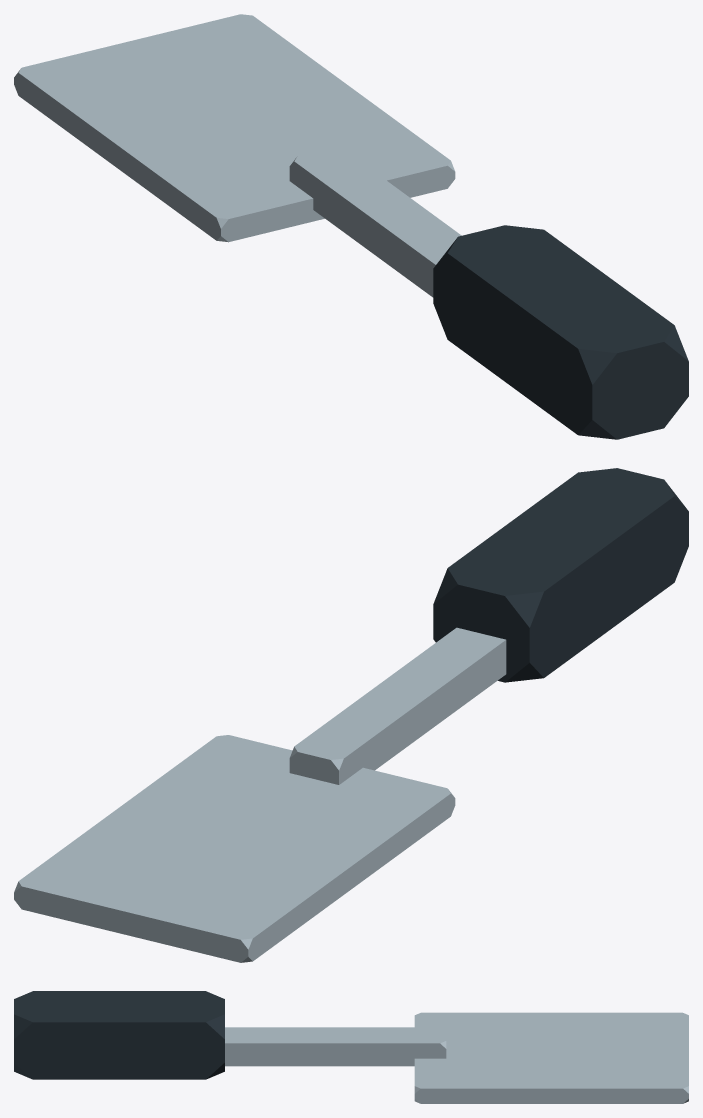
The model's file is Spatula.glb.
3 renders of one model, top to bottom at view 1: azimuth 30°, elevation 25°; view 2: azimuth 150°, elevation 25°; view 3: azimuth 270°, elevation 25°, orthographic. The views are drawn at different scales.
Visible parts, largest first — view 1: Spatula; view 2: Spatula; view 3: Spatula.
Boxes of the visible parts, x1=… form: Spatula: x1=14, y1=14, x2=688, y2=439; Spatula: x1=14, y1=468, x2=688, y2=962; Spatula: x1=14, y1=991, x2=688, y2=1103.
Size of the model in its own units: 0.085 by 0.031 by 0.32.
